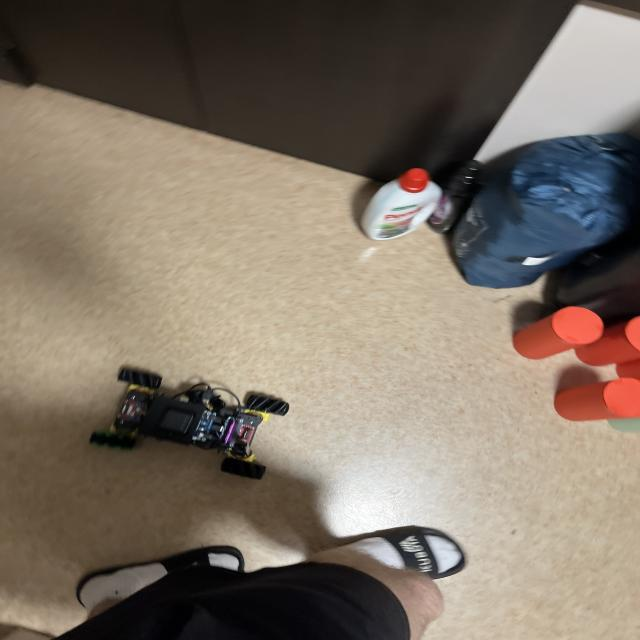robot: (90, 367, 289, 479)
